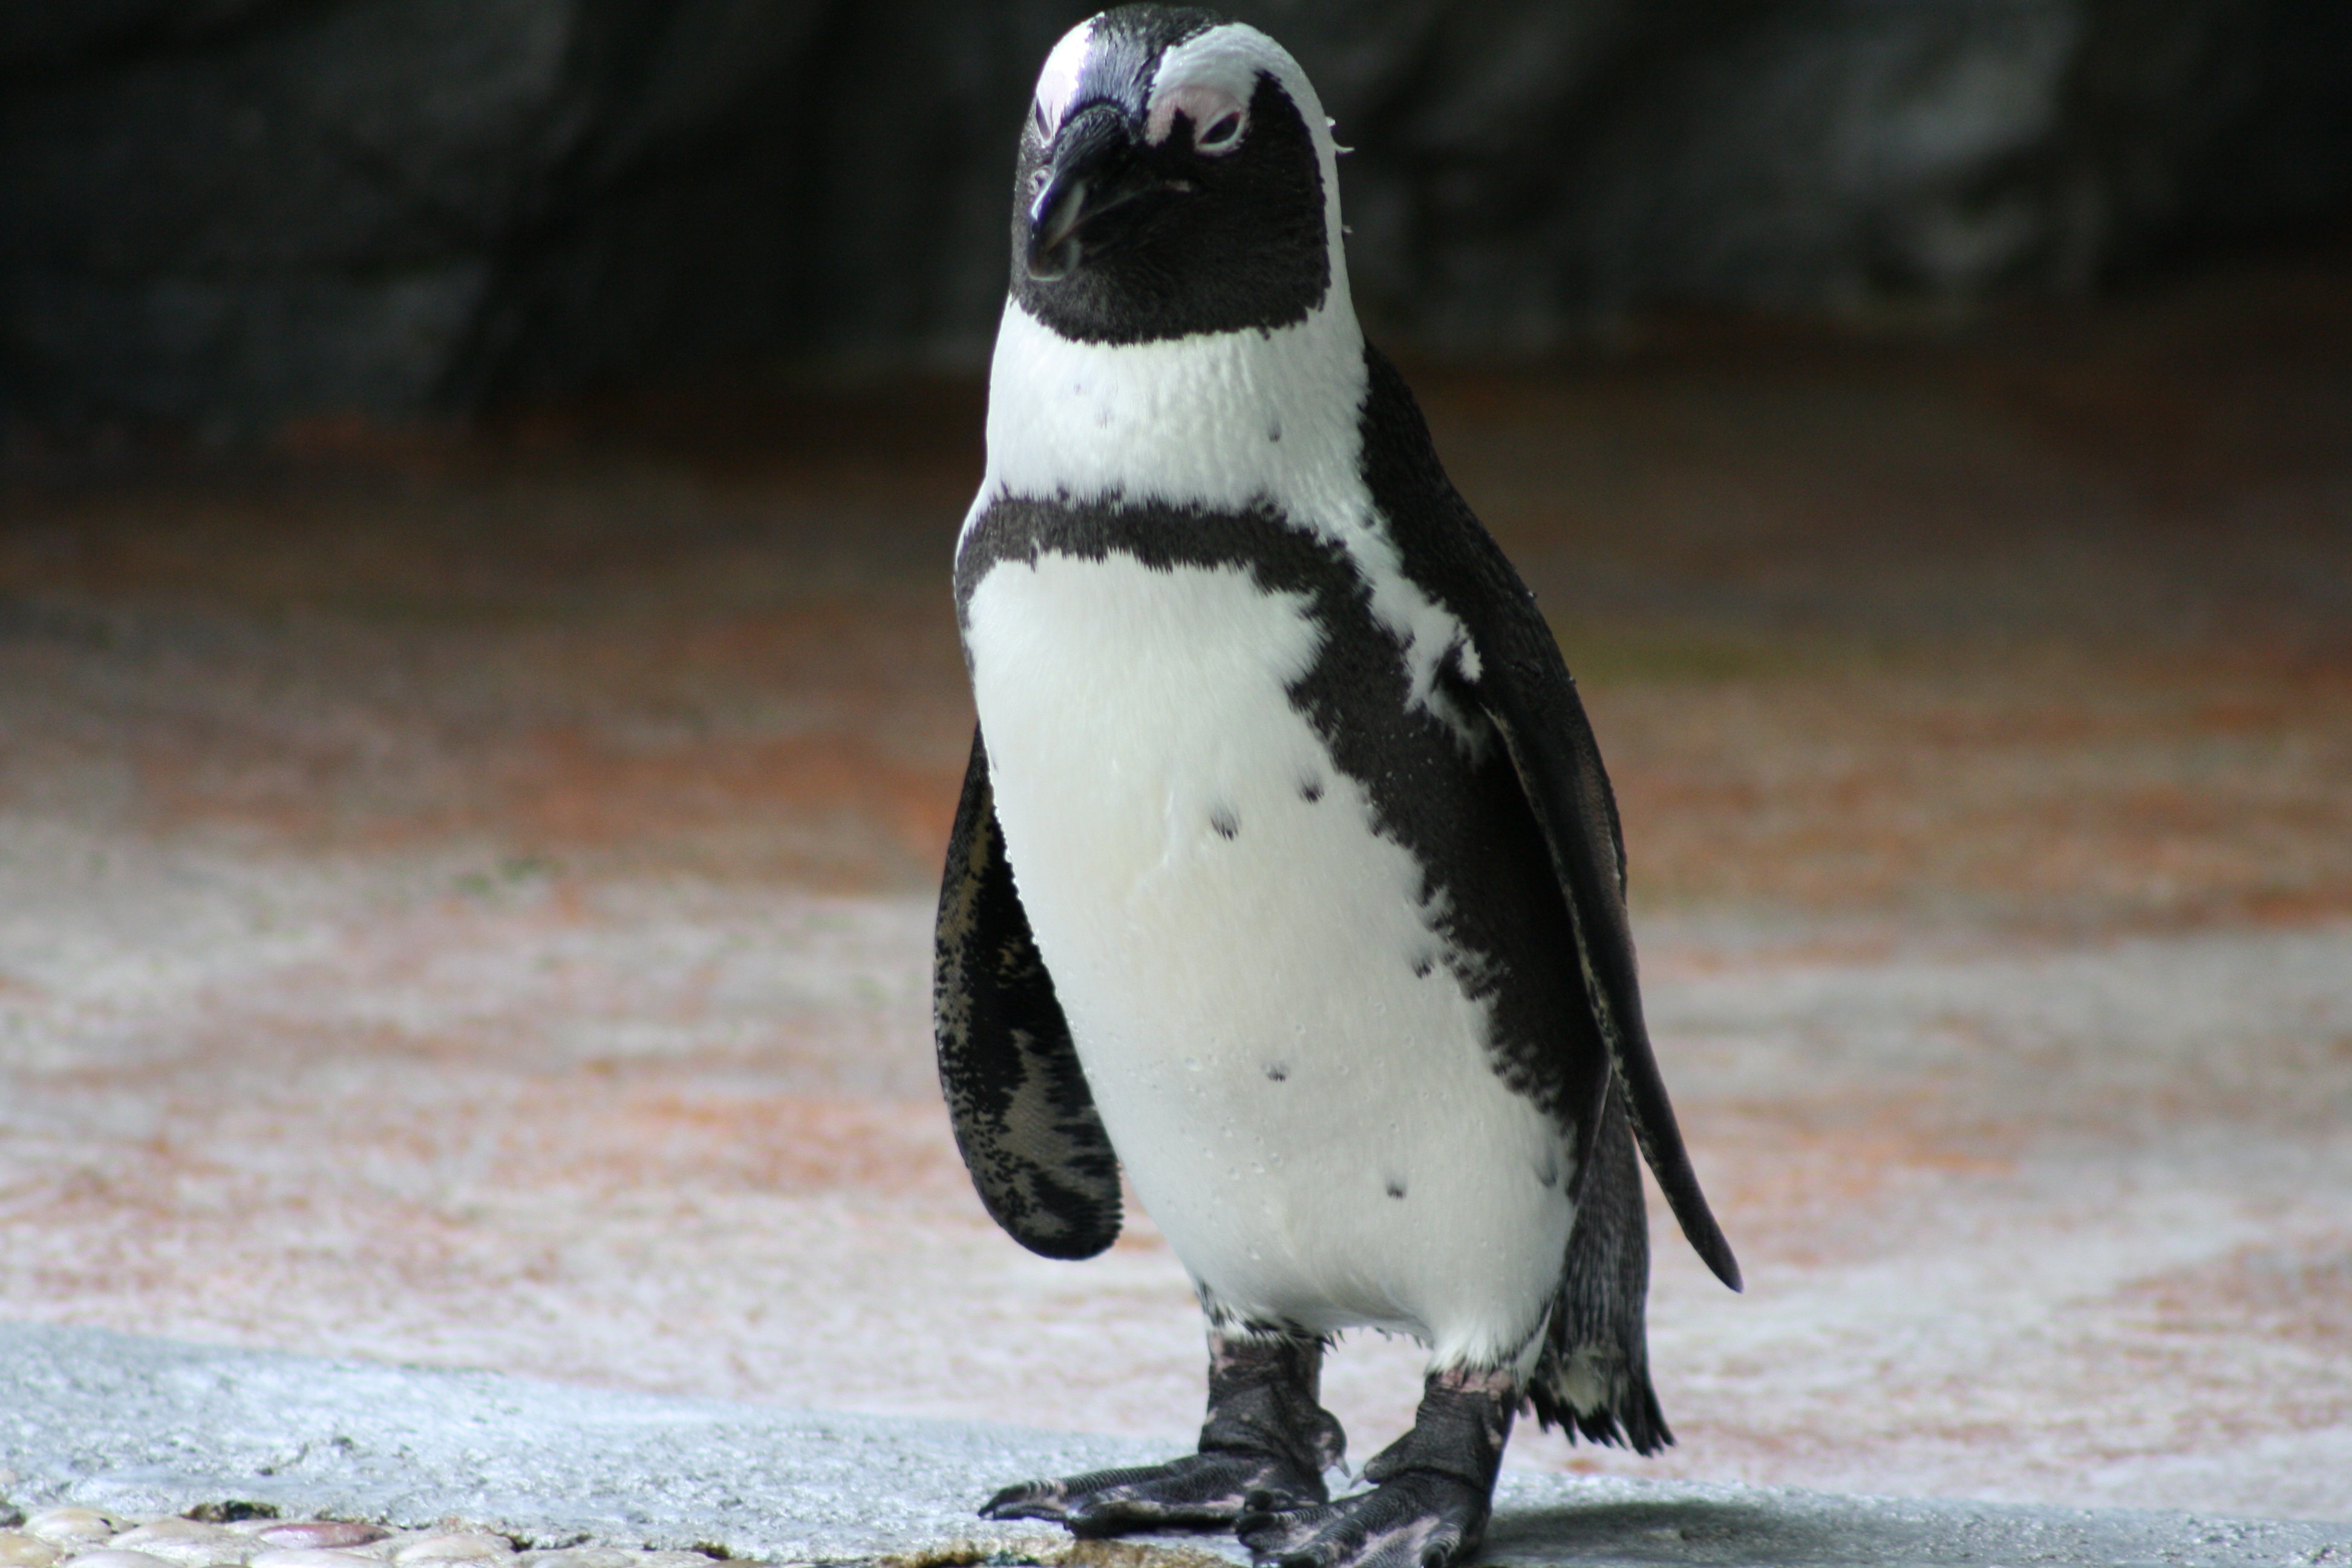penguin: (931, 3, 1738, 1568)
